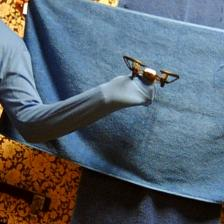drone: (123, 56, 181, 88)
